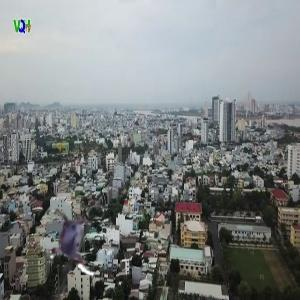drone: (36, 203, 113, 280)
